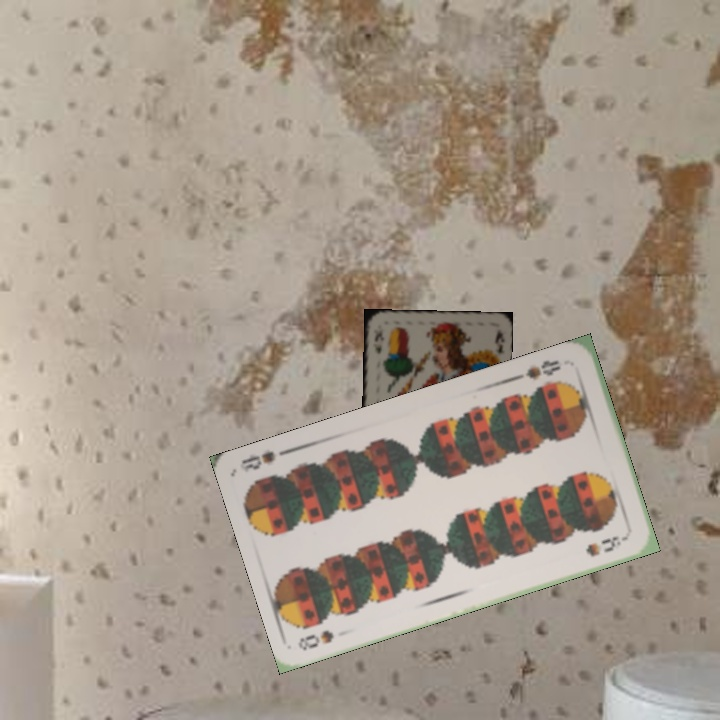EK: (371, 326, 384, 356)
S8: (514, 356, 563, 382), (295, 626, 337, 653)
